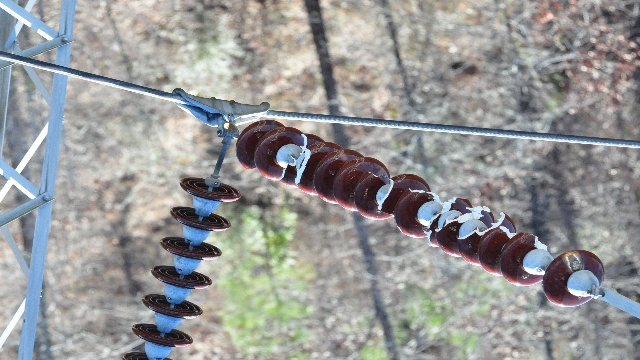broken_local: (438, 204, 508, 245), (425, 194, 470, 247), (279, 133, 317, 186), (499, 223, 550, 251), (406, 185, 446, 207), (378, 176, 397, 217)
insulator_unspecified: (236, 119, 605, 310), (123, 178, 238, 359)
pollution_flashover_local: (565, 250, 588, 277)
